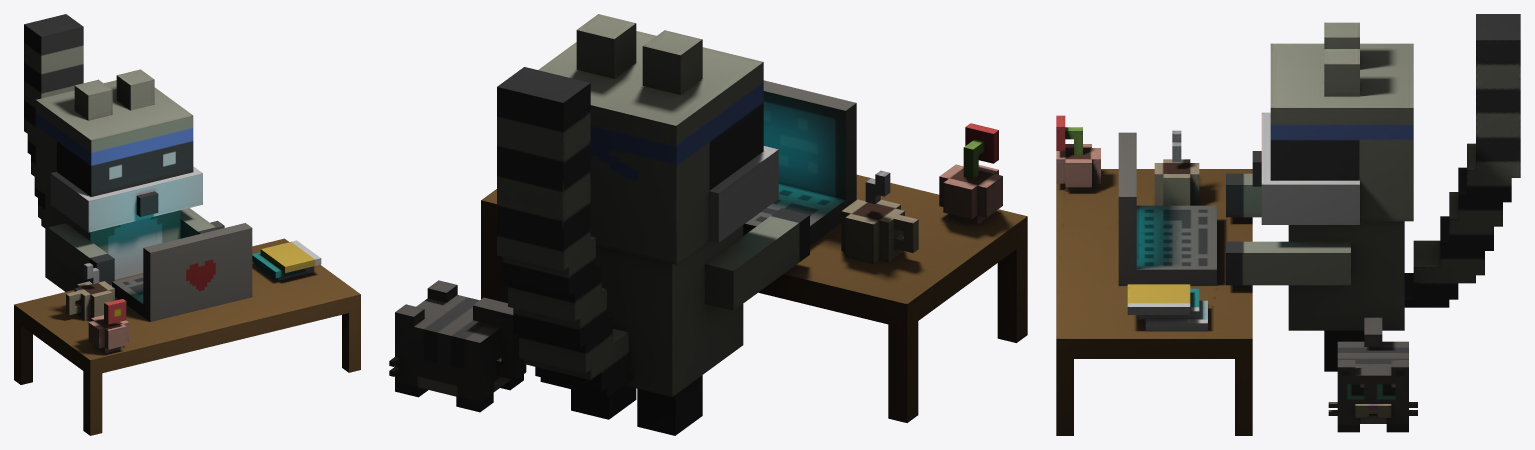
Rendered from raccoon.glb.
The picture shows the model from 3 angles, left to right: view 1: azimuth 30°, elevation 25°; view 2: azimuth 150°, elevation 25°; view 3: azimuth 270°, elevation 25°; orthographic projection. The views are drawn at different scales.
Parts seen in each view (by area): view 1: raccoon; view 2: raccoon; view 3: raccoon.
Boxes of the visible parts, x1=… form: raccoon: x1=14, y1=14, x2=360, y2=435; raccoon: x1=389, y1=14, x2=1027, y2=435; raccoon: x1=1056, y1=14, x2=1520, y2=435.
Size of what is drawn, in the model's own units: 9 by 8 by 10.4.
1 material, 1 textured.
